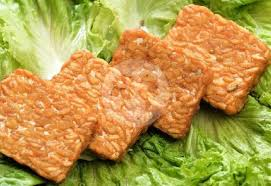Tempe goreng: (2, 65, 96, 182), (202, 4, 271, 120), (90, 53, 161, 161), (146, 27, 213, 138)
